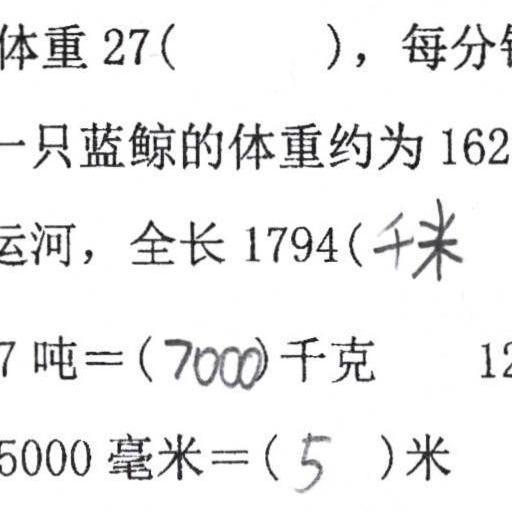ans: (370, 195, 464, 283), (161, 329, 260, 390), (288, 425, 330, 493)
